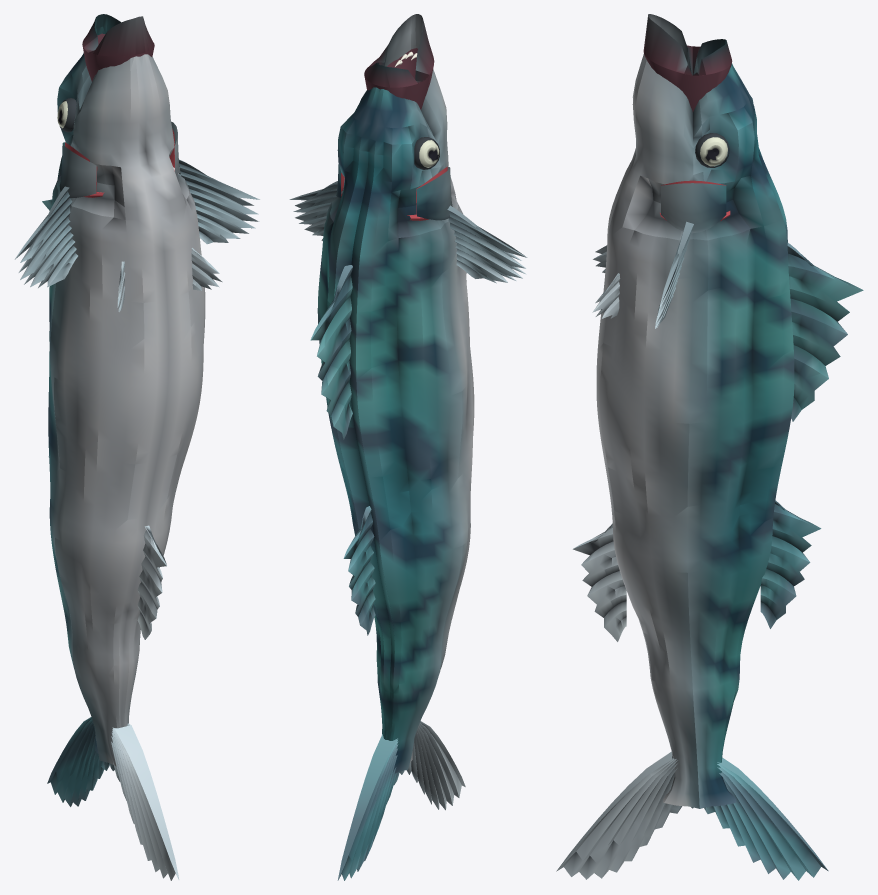
The model's file is fish_mackerel.glb.
3 views of the same model, side by side, from view 1: azimuth 30°, elevation 25°; view 2: azimuth 150°, elevation 25°; view 3: azimuth 270°, elevation 25° (orthographic). The views are drawn at different scales.
Parts seen in each view (by area): view 1: Fish_mackerel; view 2: Fish_mackerel; view 3: Fish_mackerel.
Part boxes in pixels (left/top/right/bottom): Fish_mackerel: left=14, top=14, right=259, bottom=880; Fish_mackerel: left=289, top=14, right=527, bottom=880; Fish_mackerel: left=556, top=14, right=863, bottom=880.
Size of the model in its own units: 0.2679 by 0.8719 by 0.2801.
